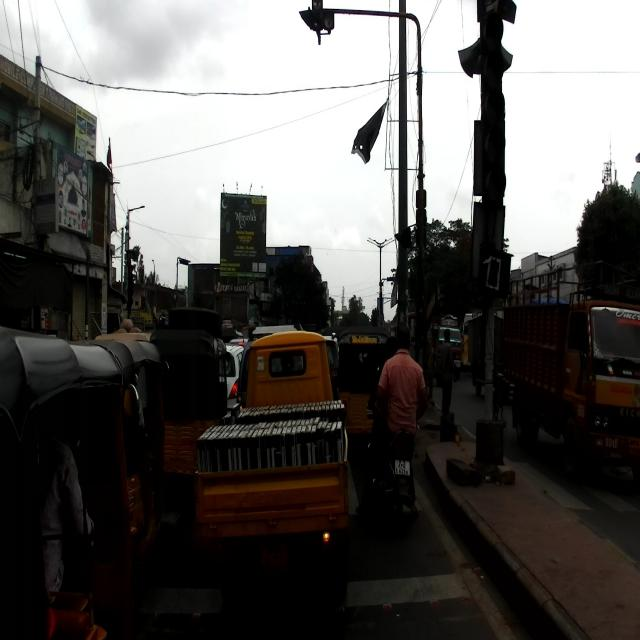autorickshaw: (0, 326, 141, 640), (194, 328, 350, 610), (67, 338, 172, 582), (149, 327, 231, 503), (336, 322, 393, 454)
truck: (500, 258, 640, 490)
